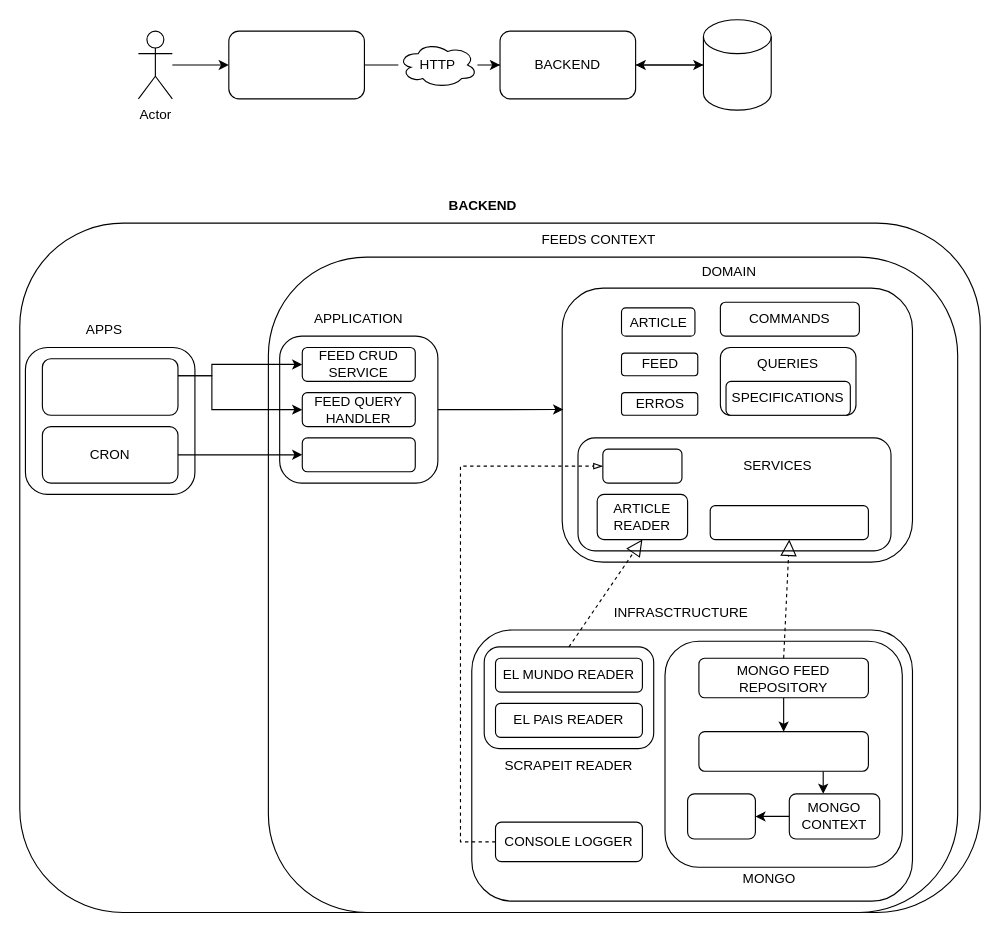
The diagram is 1000 pixels wide and 932 high, and some of its shapes have lost their labels. Each missing label, with the centre of its shape:
EXPRESSJS: the point at 109,386
FEED MODEL: the point at 720,816
FEED READER: the point at 358,454
FEED REPOSITORY: the point at 788,522
FRONTEND ANGULAR: the point at 296,64
LOGGER: the point at 642,465
MONGO CONNECTOR: the point at 783,751
MONGO DB: the point at 736,64
